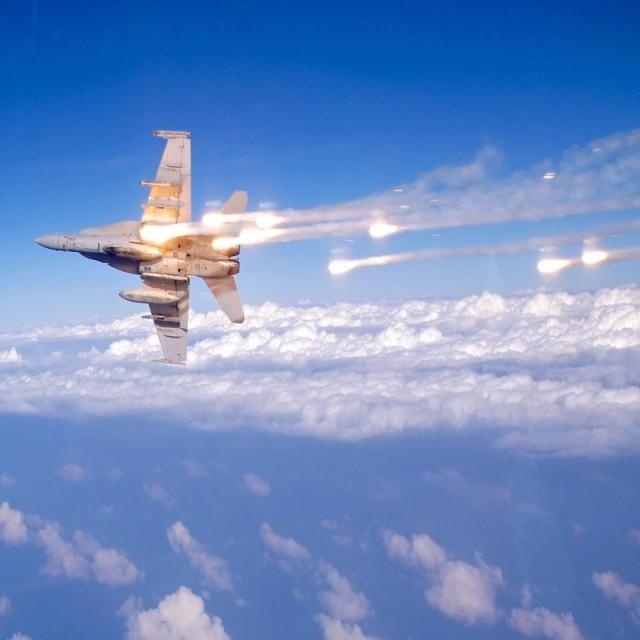MIL_Plane: (34, 128, 248, 366)
